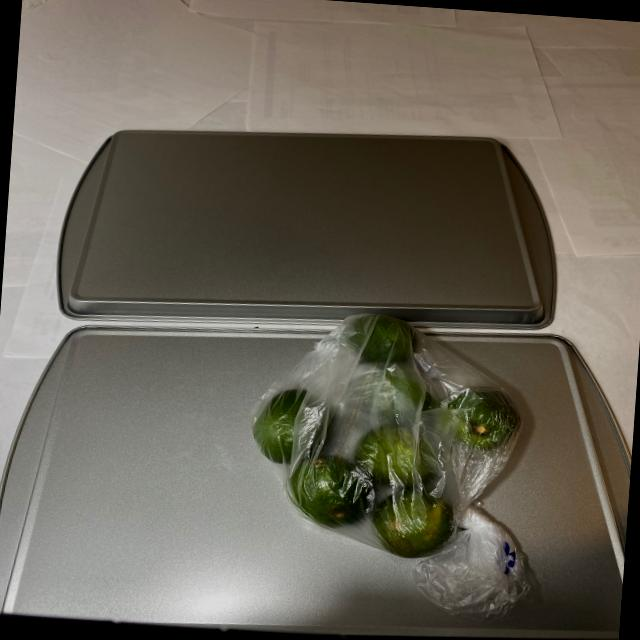lemon: (244, 304, 536, 589)
